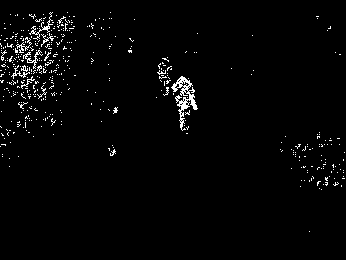person: (171, 77, 205, 134), (154, 54, 175, 96)
